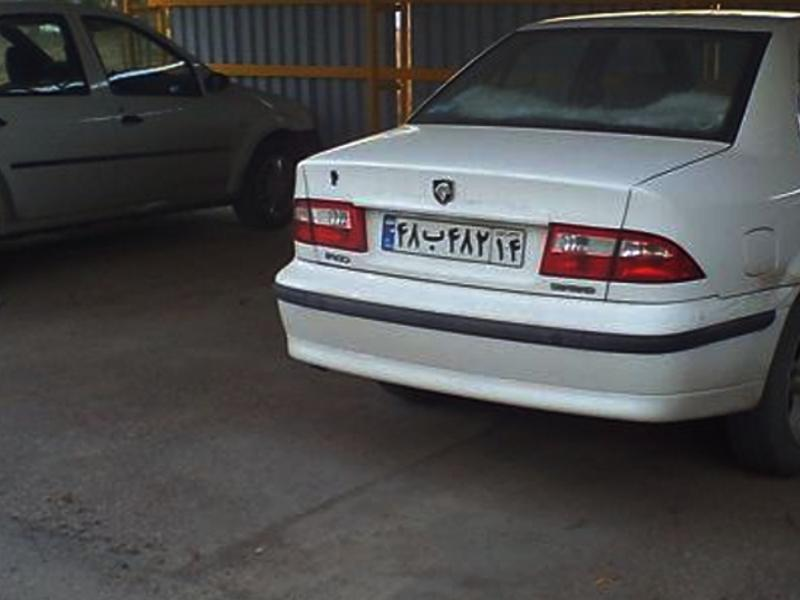Plate: (382, 211, 531, 269)
